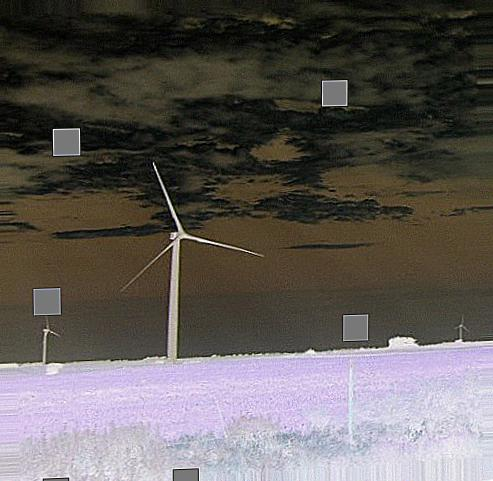wind turbine: (121, 161, 264, 361), (38, 312, 60, 365), (453, 312, 470, 344)
